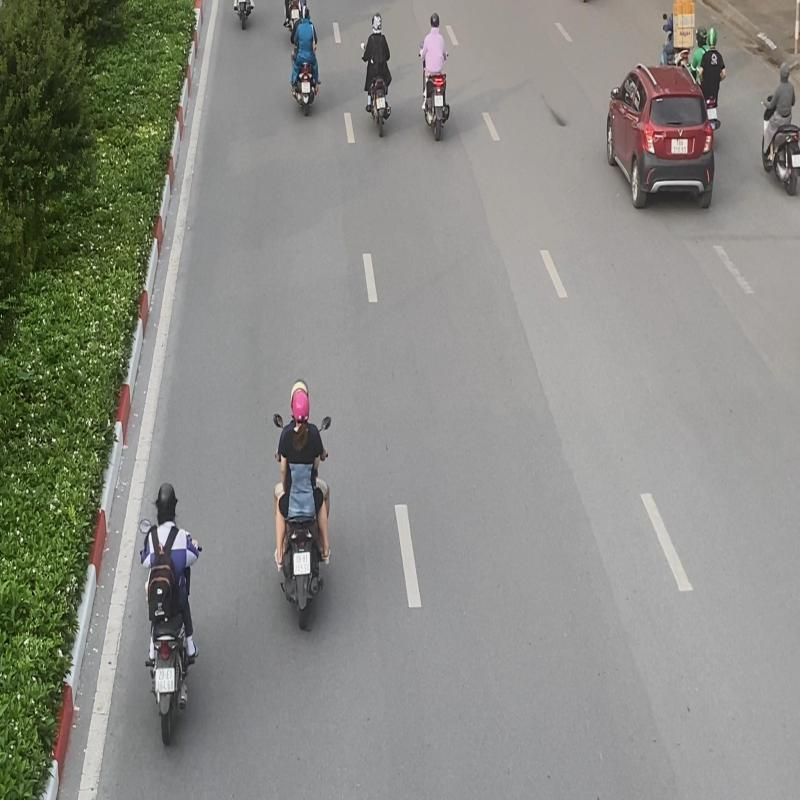helmet: (156, 480, 178, 519), (291, 384, 310, 424), (372, 10, 382, 32), (430, 12, 440, 28)
licenseplate: (154, 667, 176, 694), (293, 550, 311, 576), (376, 96, 386, 110), (434, 95, 443, 106)
motorcyclist: (138, 480, 204, 746), (272, 376, 332, 630), (360, 11, 394, 138), (418, 12, 450, 144)
